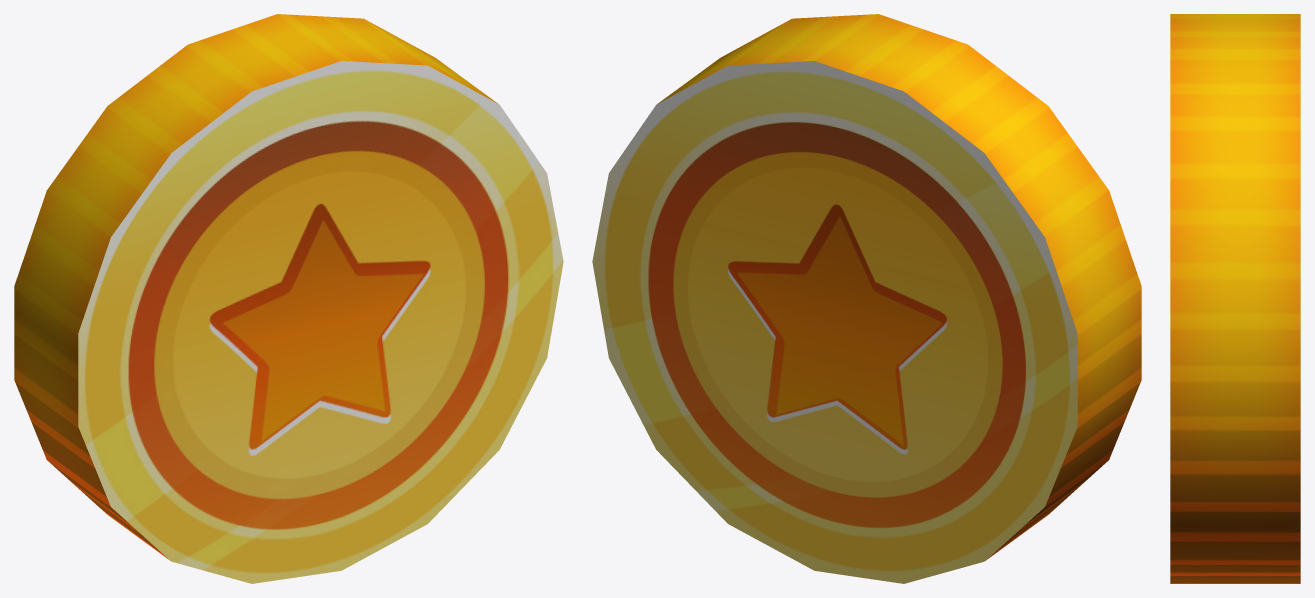
The model's file is Coin.FBX.
The picture shows the model from 3 angles, left to right: view 1: azimuth 30°, elevation 25°; view 2: azimuth 150°, elevation 25°; view 3: azimuth 270°, elevation 25°; orthographic projection.
Visible parts, largest first — view 1: Coin; view 2: Coin; view 3: Coin.
Boxes of the visible parts, bbox=[...] form: Coin: bbox=[14, 14, 563, 583]; Coin: bbox=[592, 14, 1141, 583]; Coin: bbox=[1170, 14, 1300, 583].
Bounding box in the file's own units: 21.52 × 21.61 × 4.92.
Materials: 1 (1 with a texture image).
